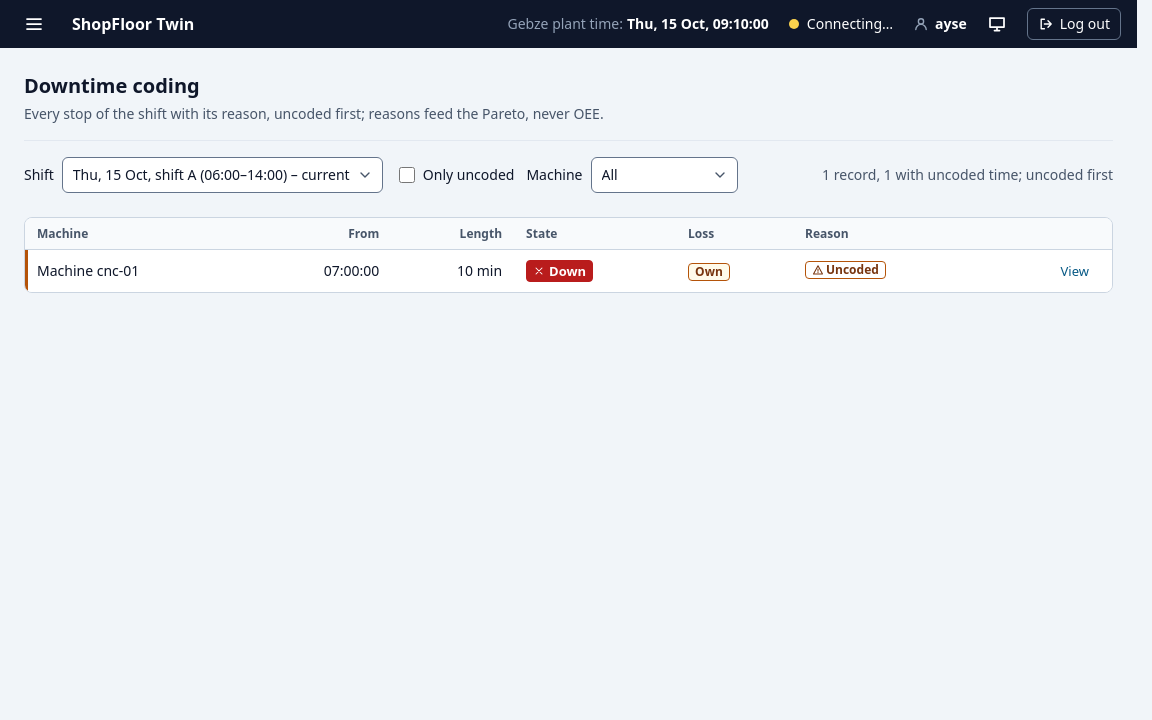
Test: downtime coding › shows the record and its history but no coding form to a admin
This screenshot has width=1152, height=720.
Click the button "View".
click(1075, 271)  # box top-left (1050, 257), bottom-right (1100, 285)
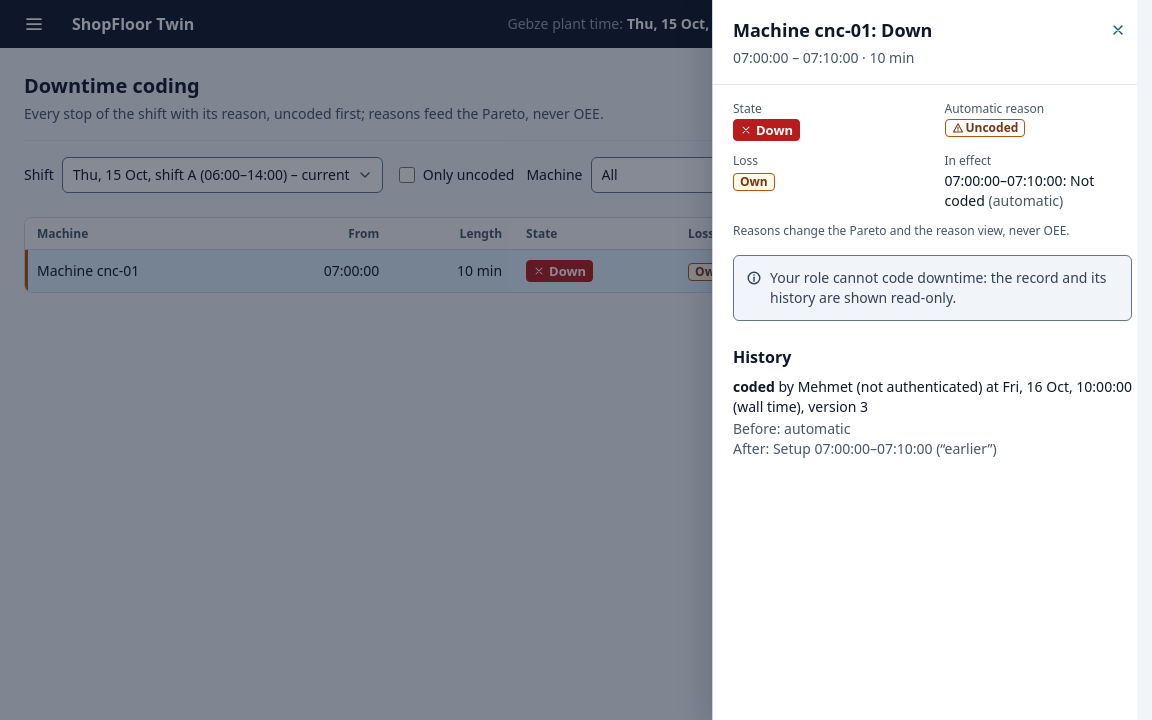
Expected: the element with test id "coding-not-allowed" shows "cannot code downtime", top-left (770, 268), bottom-right (1106, 307)
Expected: the list item with test id "audit-entry" is shown, top-left (733, 377), bottom-right (1132, 467)
